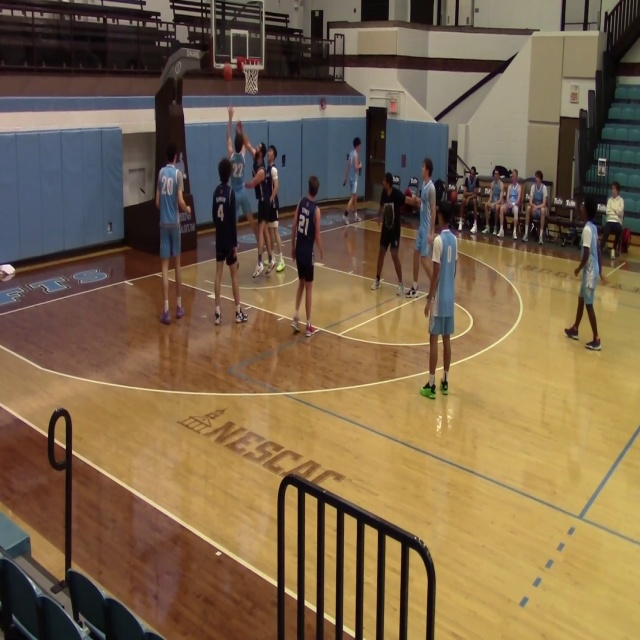Basketball: (0, 264, 15, 276), (222, 63, 232, 80), (236, 57, 245, 72), (450, 191, 457, 200), (405, 188, 412, 197)
